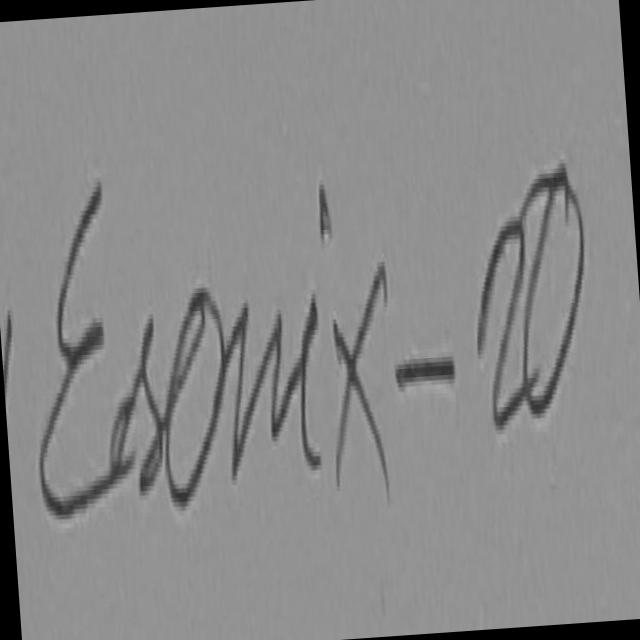0: (521, 133, 602, 475)
2: (461, 156, 531, 504)
E: (35, 140, 142, 607)
X: (322, 241, 396, 541)
i: (292, 160, 342, 524)
n: (219, 250, 296, 537)
o: (156, 242, 229, 536)
s: (106, 279, 165, 522)
